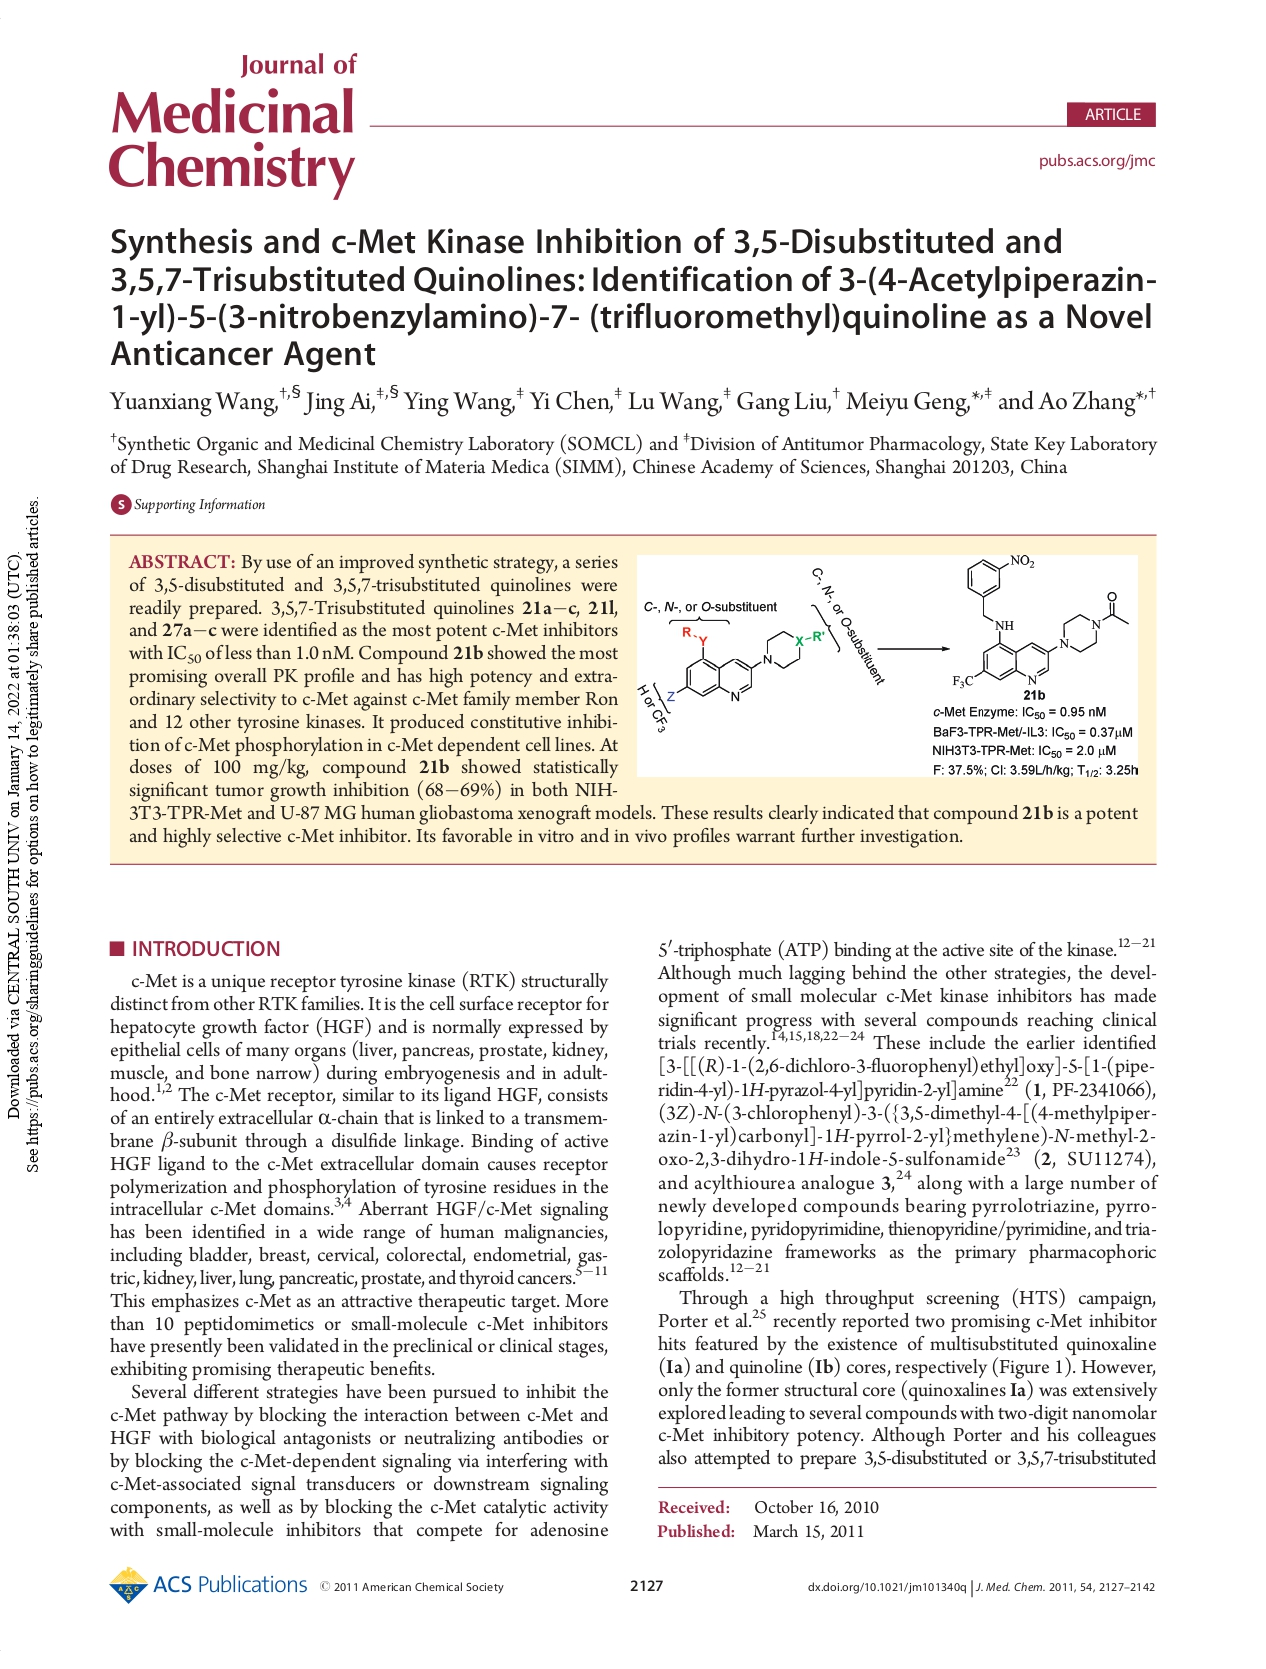exist_molecular: (951, 548, 1133, 690), (665, 621, 828, 707)
